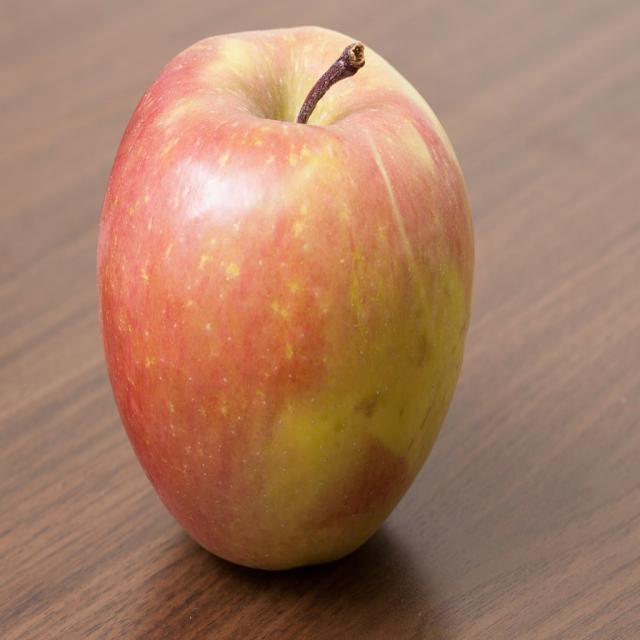Healty Apple: (96, 20, 473, 570)
